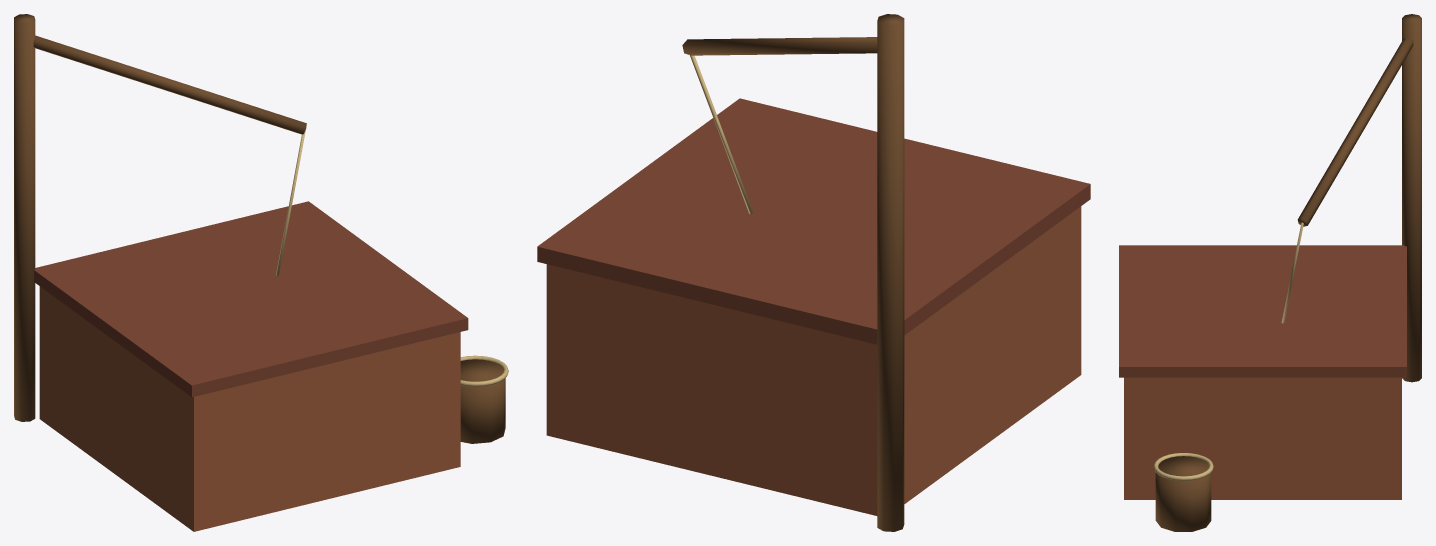
Rendered from well.glb.
3 views of the same model, side by side, from view 1: azimuth 30°, elevation 25°; view 2: azimuth 150°, elevation 25°; view 3: azimuth 270°, elevation 25° (orthographic). The views are drawn at different scales.
Visible parts, largest first — view 1: Main; view 2: Main; view 3: Main.
Part boxes in pixels (x1=…): Main: x1=14, y1=14, x2=508, y2=531; Main: x1=537, y1=14, x2=1090, y2=531; Main: x1=1119, y1=14, x2=1421, y2=531.
Size of the model in its own units: 1.9 by 2 by 1.53.
